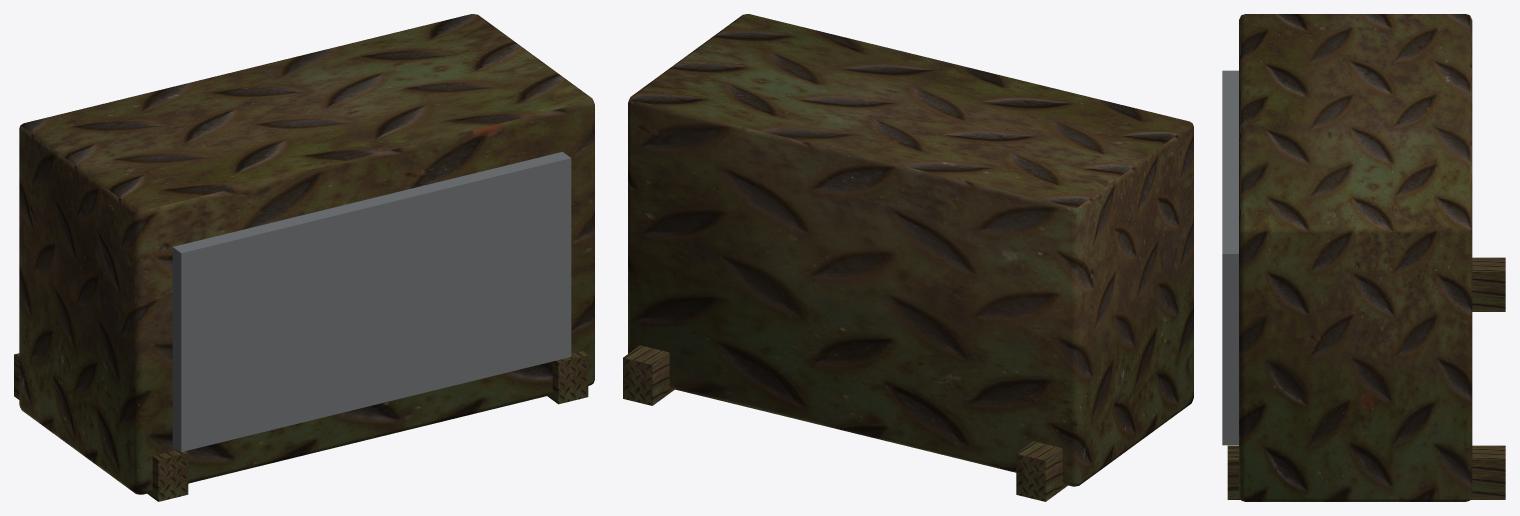
The model's file is ac_unit.glb.
3 views of the same model, side by side, from view 1: azimuth 30°, elevation 25°; view 2: azimuth 150°, elevation 25°; view 3: azimuth 270°, elevation 25° (orthographic). The views are drawn at different scales.
Parts seen in each view (by area): view 1: body, grille, bracketL, bracketR; view 2: body, bracketL, bracketR; view 3: body, grille, bracketR, bracketL.
Boxes of the visible parts, x1,y1,x2,y2 form: body: [19, 14, 594, 494]; grille: [172, 152, 571, 451]; bracketL: [14, 353, 188, 501]; bracketR: [547, 351, 588, 404]; body: [628, 14, 1193, 486]; bracketL: [1016, 441, 1067, 501]; bracketR: [623, 345, 674, 405]; body: [1239, 14, 1472, 501]; grille: [1222, 70, 1238, 445]; bracketR: [1227, 445, 1505, 499]; bracketL: [1472, 257, 1505, 311].
Size of the model in its own units: 0.92 by 0.555 by 0.51.
2 materials, 1 textured.
